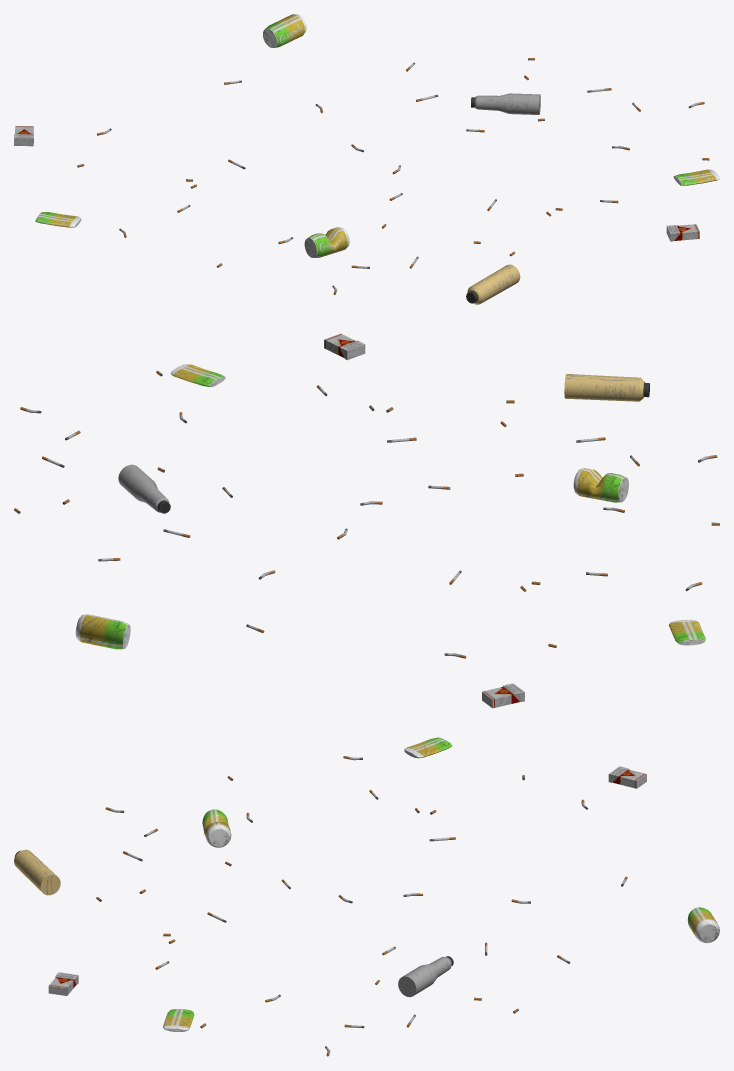
File: SM_Debris_01.fbx
3 views of the same model, one above another, from view 1: azimuth 30°, elevation 25°; view 2: azimuth 150°, elevation 25°; view 3: azimuth 270°, elevation 25° (orthographic). The views are drawn at different scales.
Visible parts, largest first — view 1: SM_Debris_01_LOD0; view 2: SM_Debris_01_LOD0; view 3: SM_Debris_01_LOD0.
Part boxes in pixels (bbox=[...]): SM_Debris_01_LOD0: bbox=[14, 14, 719, 304]; SM_Debris_01_LOD0: bbox=[14, 333, 719, 708]; SM_Debris_01_LOD0: bbox=[14, 737, 719, 1056].
Size of the model in its own units: 225 by 208 by 8.25.
Materials: 2 (2 with a texture image).
